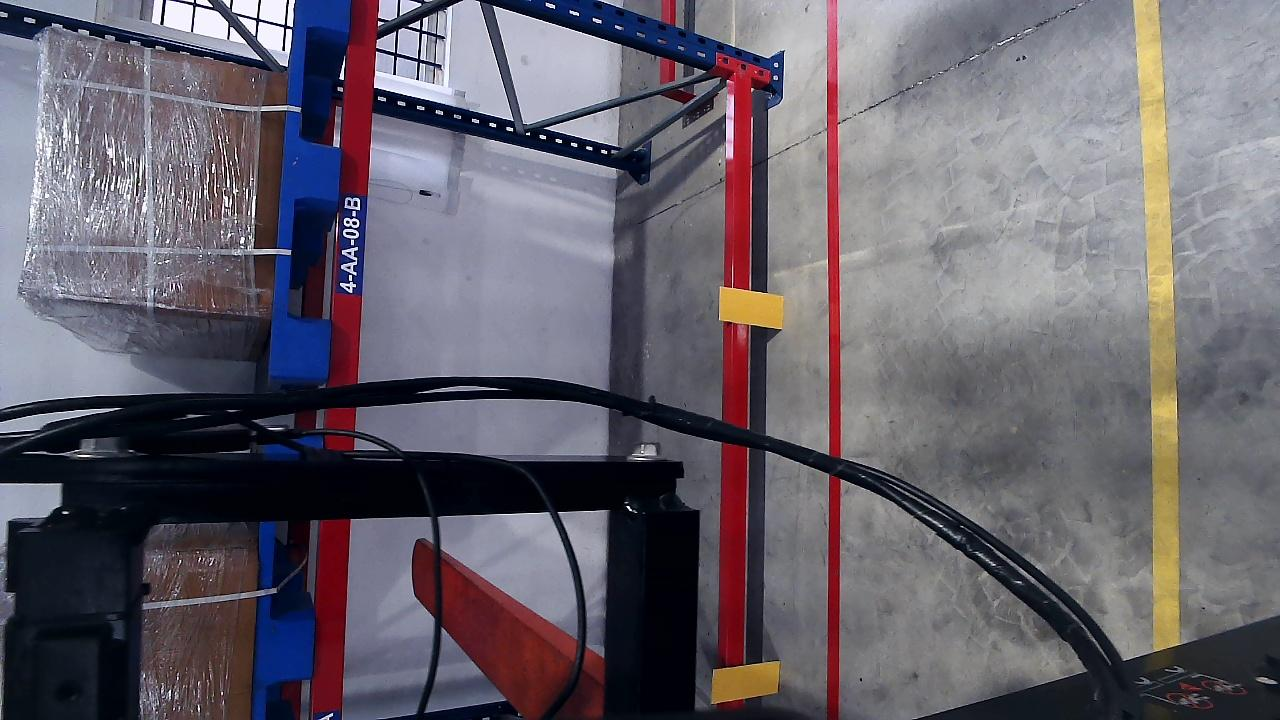h_rack: (324, 0, 382, 382), (728, 73, 758, 720), (308, 419, 358, 714)
orange_strip: (710, 662, 780, 703), (718, 287, 784, 329)
red_line: (822, 2, 844, 715)
yellow_line: (1134, 0, 1181, 641)
